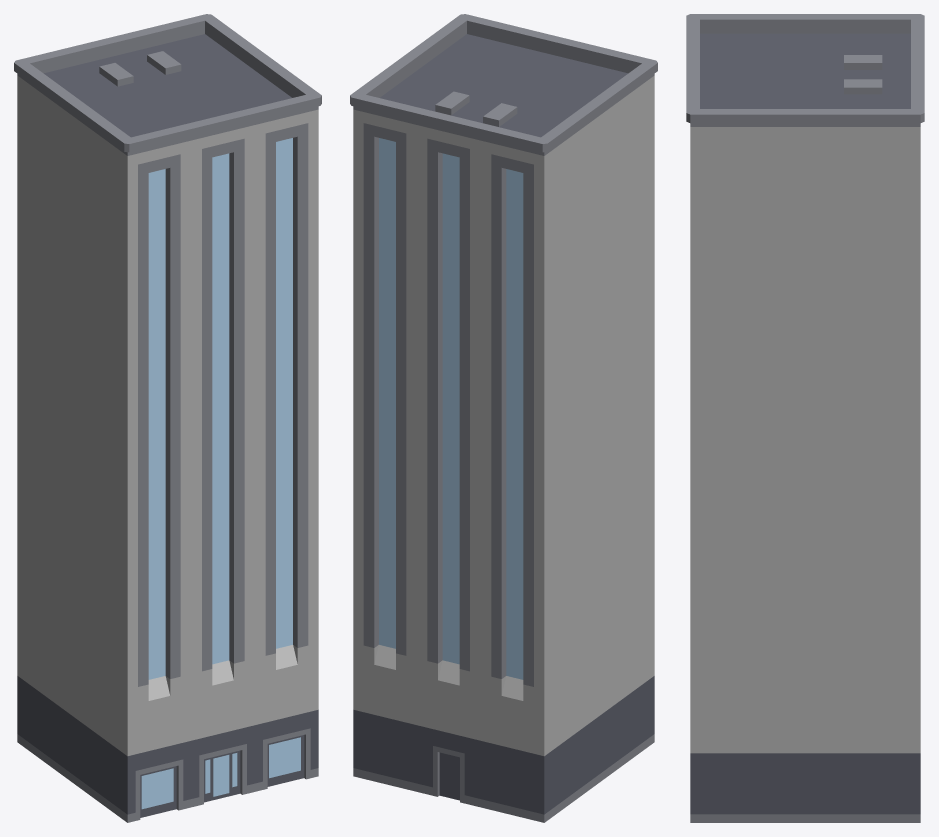
Rendered from Skyscraper F.glb.
The picture shows the model from 3 angles, left to right: view 1: azimuth 30°, elevation 25°; view 2: azimuth 150°, elevation 25°; view 3: azimuth 270°, elevation 25°; orthographic projection. The views are drawn at different scales.
Parts seen in each view (by area): view 1: skyscraperF; view 2: skyscraperF; view 3: skyscraperF.
Boxes of the visible parts, <box> form: skyscraperF: <box>14,14,321,822</box>; skyscraperF: <box>350,14,657,822</box>; skyscraperF: <box>686,14,924,822</box>.
Size of the model in its own units: 1.24 by 4.08 by 1.24.
